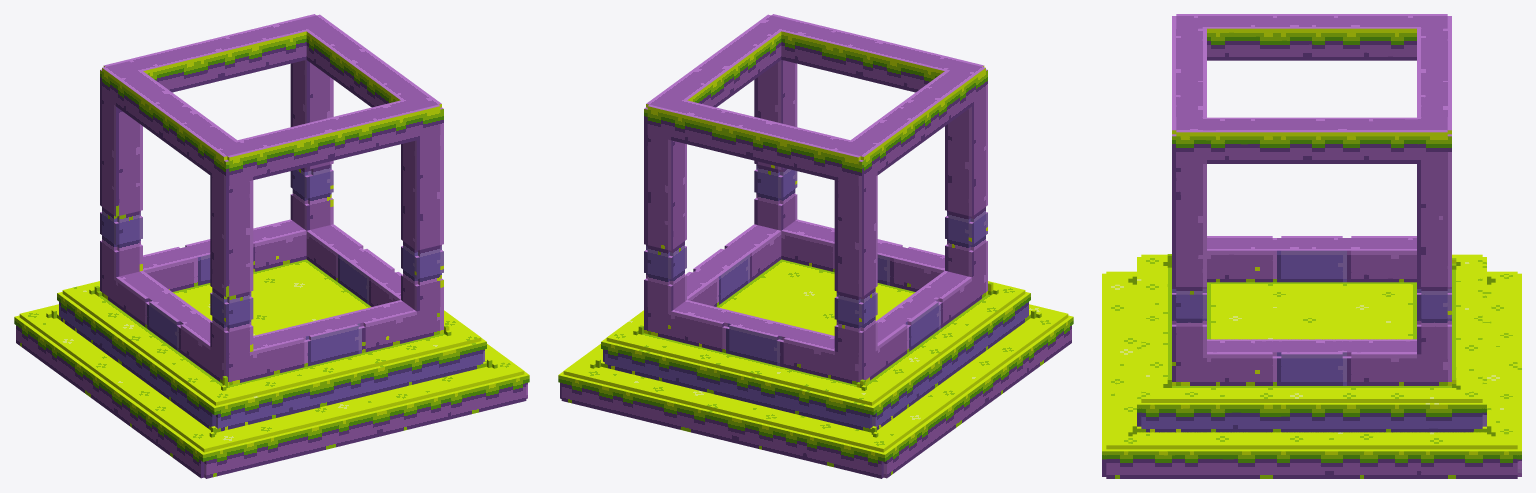
File: zu_gateao.fezao.glb
The picture shows the model from 3 angles, left to right: view 1: azimuth 30°, elevation 25°; view 2: azimuth 150°, elevation 25°; view 3: azimuth 270°, elevation 25°; orthographic projection. The views are drawn at different scales.
Parts seen in each view (by area): view 1: ZU_GATEAO; view 2: ZU_GATEAO; view 3: ZU_GATEAO.
Boxes of the visible parts, bbox=[...] form: ZU_GATEAO: bbox=[14, 14, 529, 478]; ZU_GATEAO: bbox=[558, 14, 1073, 478]; ZU_GATEAO: bbox=[1102, 14, 1521, 478].
Bounding box in the file's own units: 6 × 5 × 6.
1 material, 1 textured.
